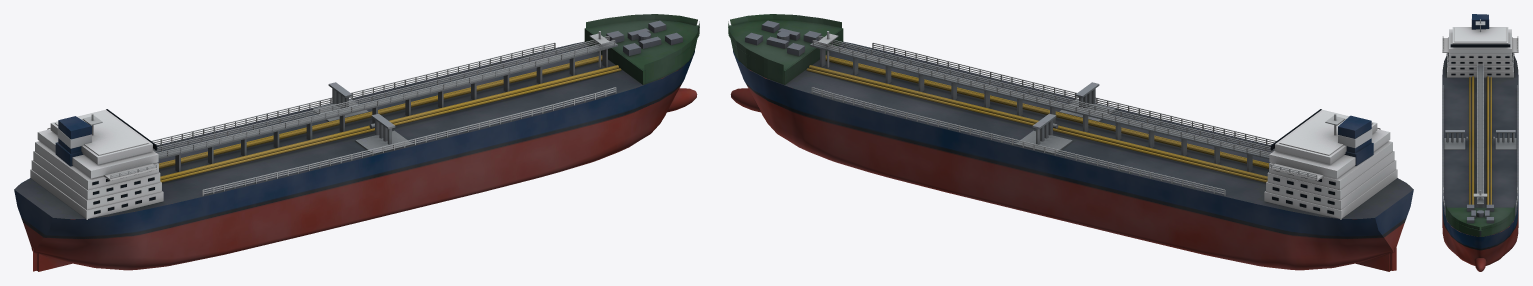
The model's file is hull-tanker.glb.
The picture shows the model from 3 angles, left to right: view 1: azimuth 30°, elevation 25°; view 2: azimuth 150°, elevation 25°; view 3: azimuth 270°, elevation 25°; orthographic projection. The views are drawn at different scales.
Visible parts, largest first — view 1: hull, superstructure; view 2: hull, superstructure; view 3: hull, superstructure.
Boxes of the visible parts, <box> form: hull: <box>14,14,699,271</box>; superstructure: <box>30,109,163,219</box>; hull: <box>728,14,1413,271</box>; superstructure: <box>1264,109,1397,219</box>; hull: <box>1442,14,1518,271</box>; superstructure: <box>1442,27,1518,77</box>.
Size of the model in its own units: 10.15 by 2.09 by 1.7.
2 materials, 2 textured.
